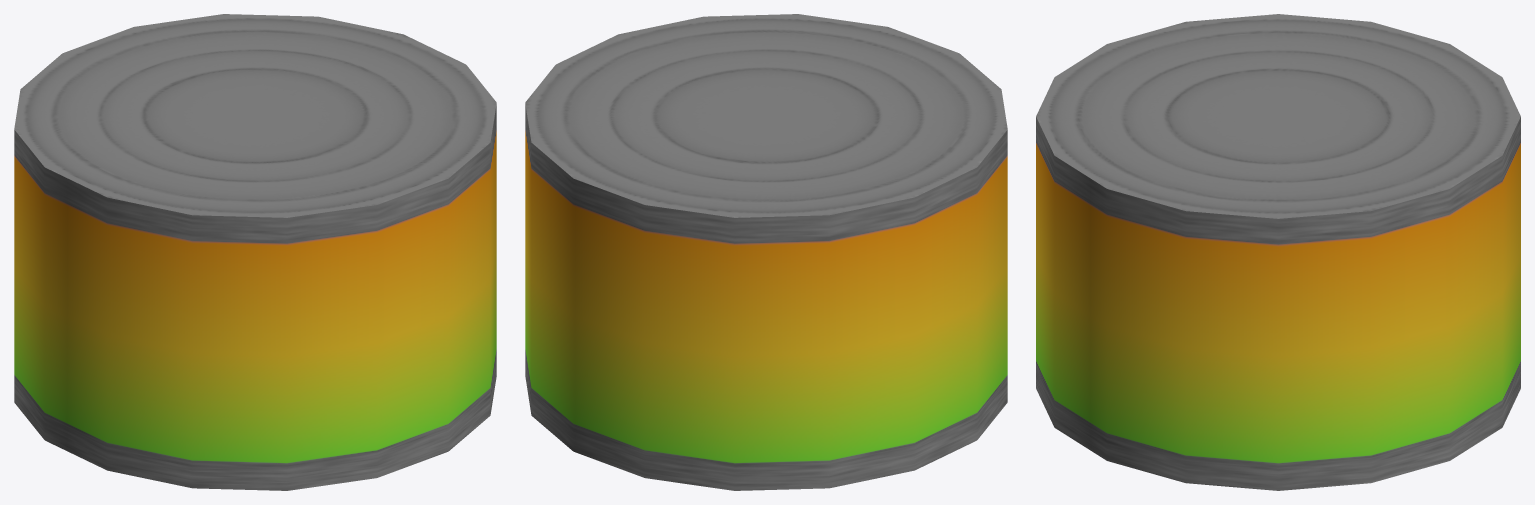
File: tincangradient.glb
The picture shows the model from 3 angles, left to right: view 1: azimuth 30°, elevation 25°; view 2: azimuth 150°, elevation 25°; view 3: azimuth 270°, elevation 25°; orthographic projection.
Visible parts, largest first — view 1: tincangradient; view 2: tincangradient; view 3: tincangradient.
Part boxes in pixels (<box>): tincangradient: <box>14,14,496,490</box>; tincangradient: <box>525,14,1007,490</box>; tincangradient: <box>1036,14,1520,490</box>.
Size of the model in its own units: 0.3916 by 0.2424 by 0.3916.
Materials: 1 (1 with a texture image).
